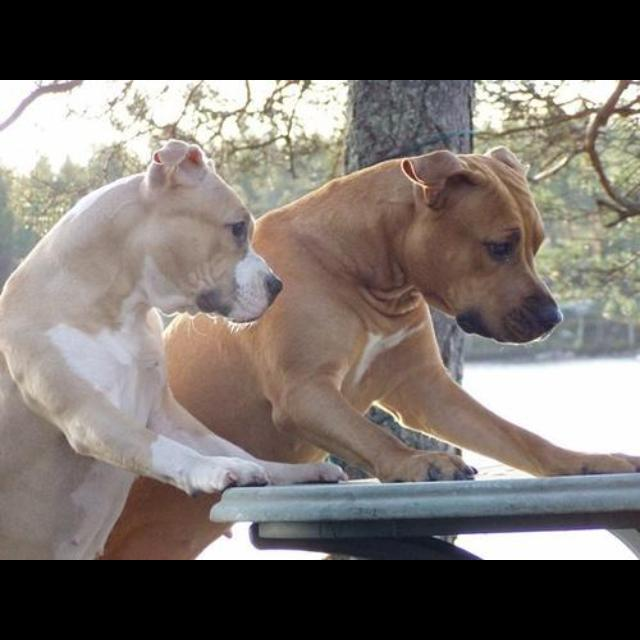amstaff: (105, 140, 640, 561), (8, 140, 344, 561)
